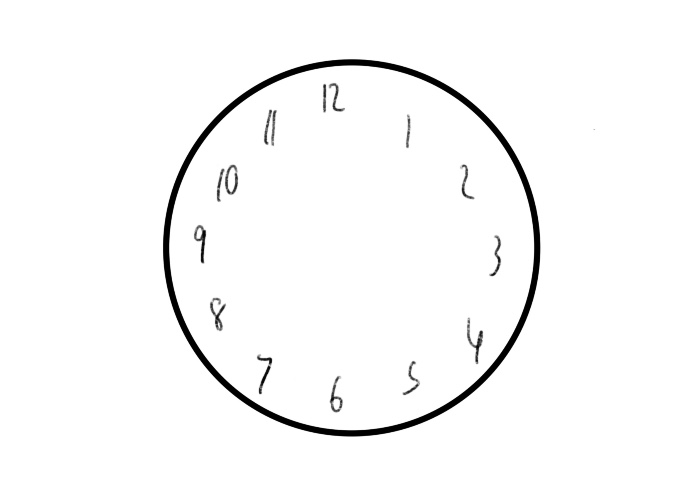eight: (206, 294, 227, 335)
eleven: (257, 108, 282, 147)
five: (403, 357, 422, 397)
four: (463, 315, 487, 369)
nine: (190, 219, 209, 266)
one: (405, 114, 414, 151)
seven: (255, 351, 274, 395)
six: (329, 374, 344, 413)
ten: (215, 165, 239, 205)
three: (488, 232, 506, 282)
twelve: (320, 82, 347, 114)
two: (452, 162, 481, 203)
